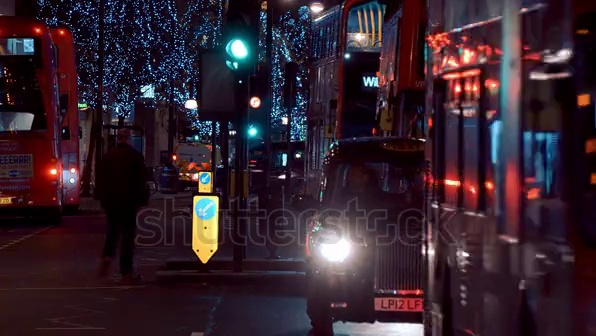licenseplate: (377, 292, 429, 312)
